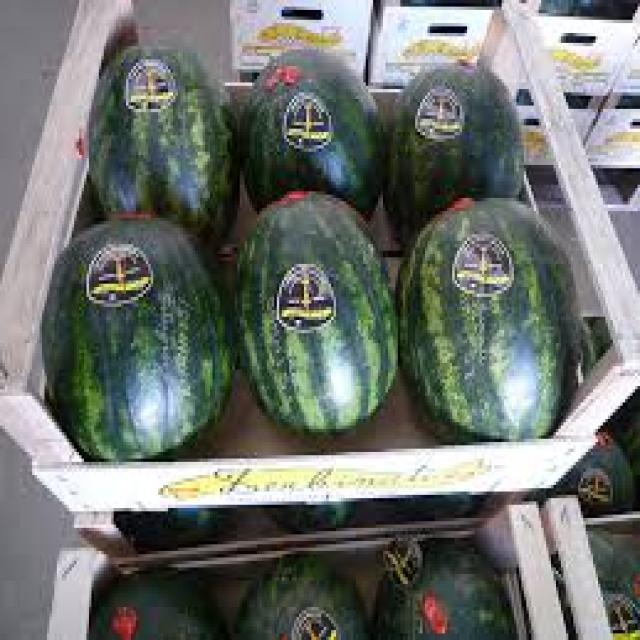organic waste: (393, 194, 583, 438), (37, 217, 227, 448), (230, 185, 393, 435), (84, 39, 237, 228), (237, 46, 383, 208), (386, 56, 522, 201), (371, 541, 516, 637), (225, 554, 368, 637), (89, 570, 222, 636)
